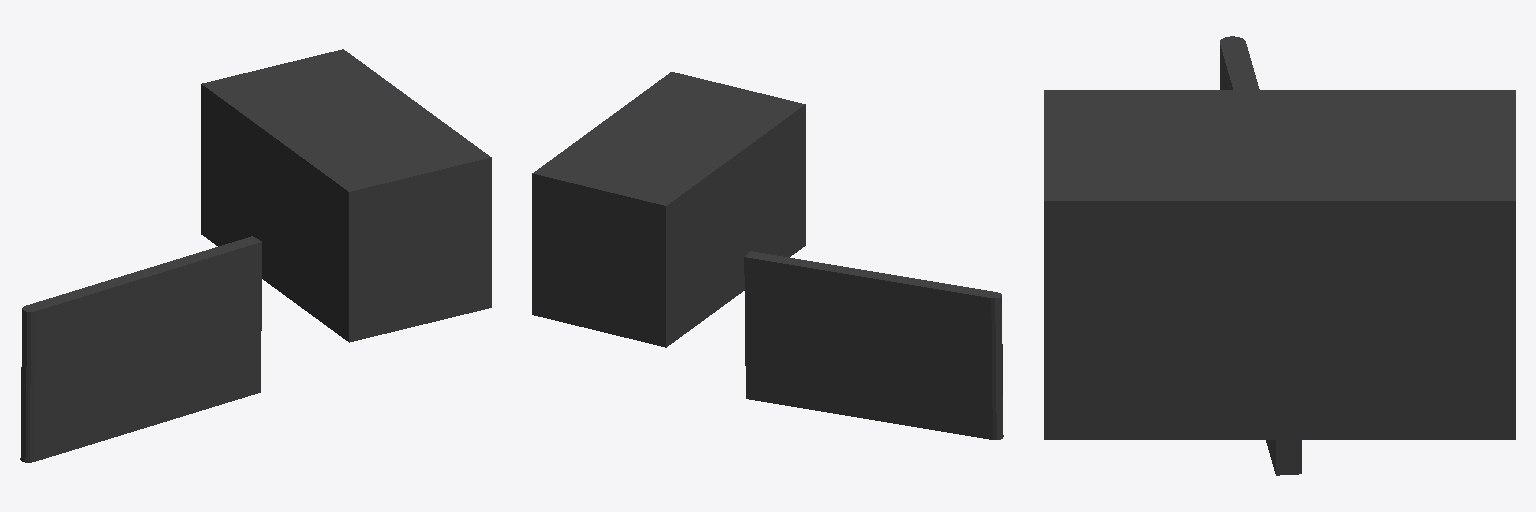
URDF robot description (sim_urdf):
<?xml version="1.0" encoding="utf-8"?>
<!-- This URDF was automatically created by SolidWorks to URDF Exporter! Originally created by [author] ([email redacted])
     Commit Version: 1.5.1-0-g916b5db  Build Version: 1.5.7152.31018
     For more information, please see http://wiki.ros.org/sw_urdf_exporter -->
<robot
  name="sim_urdf">
  <link
    name="base_link">
    <inertial>
      <origin
        xyz="-1.6178E-18 -3.1708E-18 0.01515"
        rpy="0 0 0" />
      <mass
        value="0.033918" />
      <inertia
        ixx="1.0837E-05"
        ixy="1.972E-37"
        ixz="0"
        iyy="5.1389E-06"
        iyz="0"
        izz="1.0786E-05" />
    </inertial>
    <visual>
      <origin
        xyz="0 0 0"
        rpy="0 0 0" />
      <geometry>
        <mesh
          filename="package://sim_urdf/meshes/base_link.STL" />
      </geometry>
      <material
        name="">
        <color
          rgba="0.29804 0.29804 0.29804 1" />
      </material>
    </visual>
    <collision>
      <origin
        xyz="0 0 0"
        rpy="0 0 0" />
      <geometry>
        <mesh
          filename="package://sim_urdf/meshes/base_link.STL" />
      </geometry>
    </collision>
  </link>
  <link
    name="arm_left">
    <inertial>
      <origin
        xyz="0.029809 -0.018645 5.48789273350911E-19"
        rpy="0 0 0" />
      <mass
        value="0.0039781" />
      <inertia
        ixx="5.233E-07"
        ixy="-8.0787E-08"
        ixz="0"
        iyy="6.4754E-07"
        iyz="0"
        izz="1.1611E-06" />
    </inertial>
    <visual>
      <origin
        xyz="0 0 0"
        rpy="0 0 0" />
      <geometry>
        <mesh
          filename="package://sim_urdf/meshes/arm_left.STL" />
      </geometry>
      <material
        name="">
        <color
          rgba="1 0 0 1" />
      </material>
    </visual>
    <collision>
      <origin
        xyz="0 0 0"
        rpy="0 0 0" />
      <geometry>
        <mesh
          filename="package://sim_urdf/meshes/arm_left.STL" />
      </geometry>
    </collision>
  </link>
  <joint
    name="servo_left"
    type="revolute">
    <origin
      xyz="-0.0015 -0.001 0.0212"
      rpy="1.5708 0 0" />
    <parent
      link="base_link" />
    <child
      link="arm_left" />
    <axis
      xyz="0 0 1" />
    <limit
      lower="-1.8"
      upper="1.8"
      effort="0.03"
      velocity="6" />
  </joint>
  <link
    name="arm_right">
    <inertial>
      <origin
        xyz="0.029809 -0.018645 5.48789273350911E-19"
        rpy="0 0 0" />
      <mass
        value="0.0039781" />
      <inertia
        ixx="5.233E-07"
        ixy="-8.0787E-08"
        ixz="0"
        iyy="6.4754E-07"
        iyz="0"
        izz="1.1611E-06" />
    </inertial>
    <visual>
      <origin
        xyz="0 0 0"
        rpy="0 0 0" />
      <geometry>
        <mesh
          filename="package://sim_urdf/meshes/arm_right.STL" />
      </geometry>
      <material
        name="">
        <color
          rgba="0.29804 0.29804 0.29804 1" />
      </material>
    </visual>
    <collision>
      <origin
        xyz="0 0 0"
        rpy="0 0 0" />
      <geometry>
        <mesh
          filename="package://sim_urdf/meshes/arm_right.STL" />
      </geometry>
    </collision>
  </link>
  <joint
    name="servo_right"
    type="revolute">
    <origin
      xyz="-0.0015 -0.001 -0.0212"
      rpy="1.5708 0.011562 0" />
    <parent
      link="base_link" />
    <child
      link="arm_right" />
    <axis
      xyz="0 0 1" />
    <limit
      lower="-1.8"
      upper="1.8"
      effort="0.03"
      velocity="6" />
  </joint>
</robot>

--- What the picture shows (computed from the rendered views, not written in the file) ---
3 views of the same robot in one strip: view 1: azimuth 30°, elevation 25°; view 2: azimuth 150°, elevation 25°; view 3: azimuth 270°, elevation 25° (orthographic).
Model sim_urdf with 3 links and 2 joints (2 revolute), rooted at base_link, posed all joints at 0.
Links seen in each view (by area): view 1: base_link, arm_right; view 2: base_link, arm_right; view 3: base_link, arm_right.
Link boxes in pixels (x1,y1,x2,y2): base_link: (201,49,491,342); arm_right: (20,236,261,462); base_link: (532,72,805,347); arm_right: (744,251,1003,439); base_link: (1044,90,1515,439); arm_right: (1220,36,1301,475).
Bounding box of the posed robot: 0.0866 × 0.054 × 0.0503 m (x, y, z).
2 mesh visuals loaded from 3 distinct referenced files (2 binary STL); not drawn: 1 (reference not matched to a file when rendering).